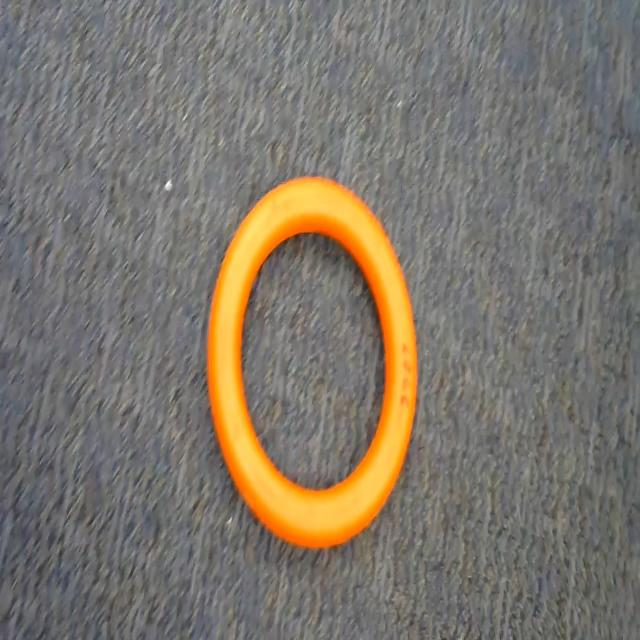note: (180, 155, 444, 582)
